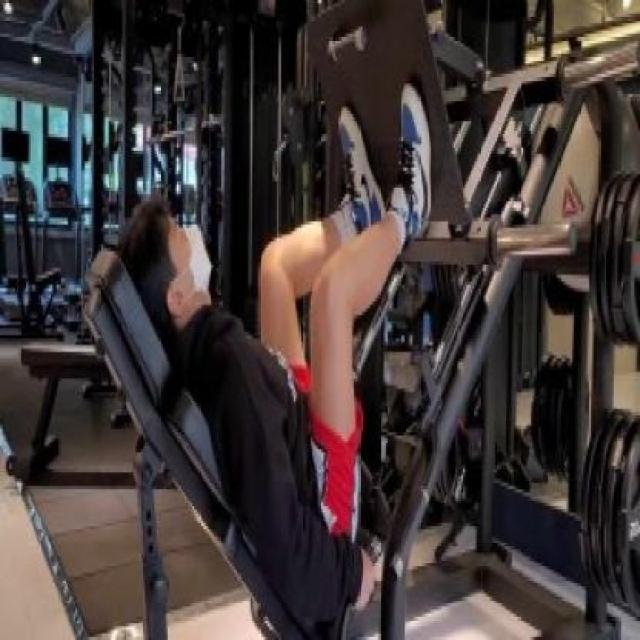leg press: (74, 7, 640, 640)
